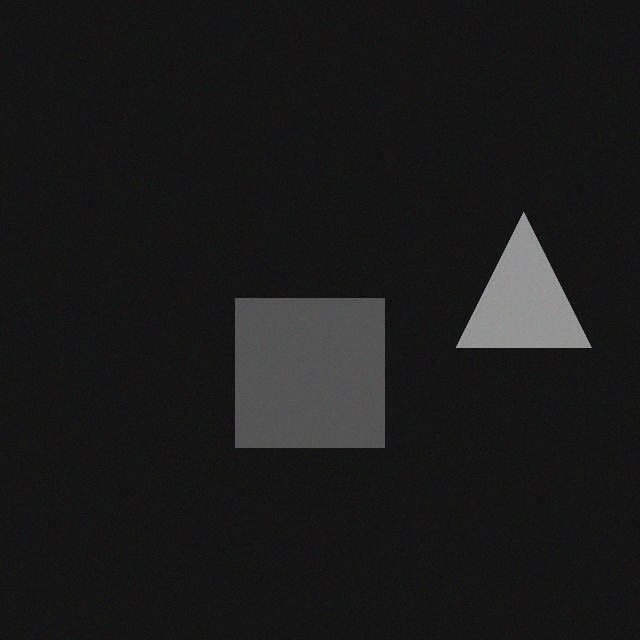square: (240, 301, 389, 450)
triangle: (461, 215, 596, 350)
